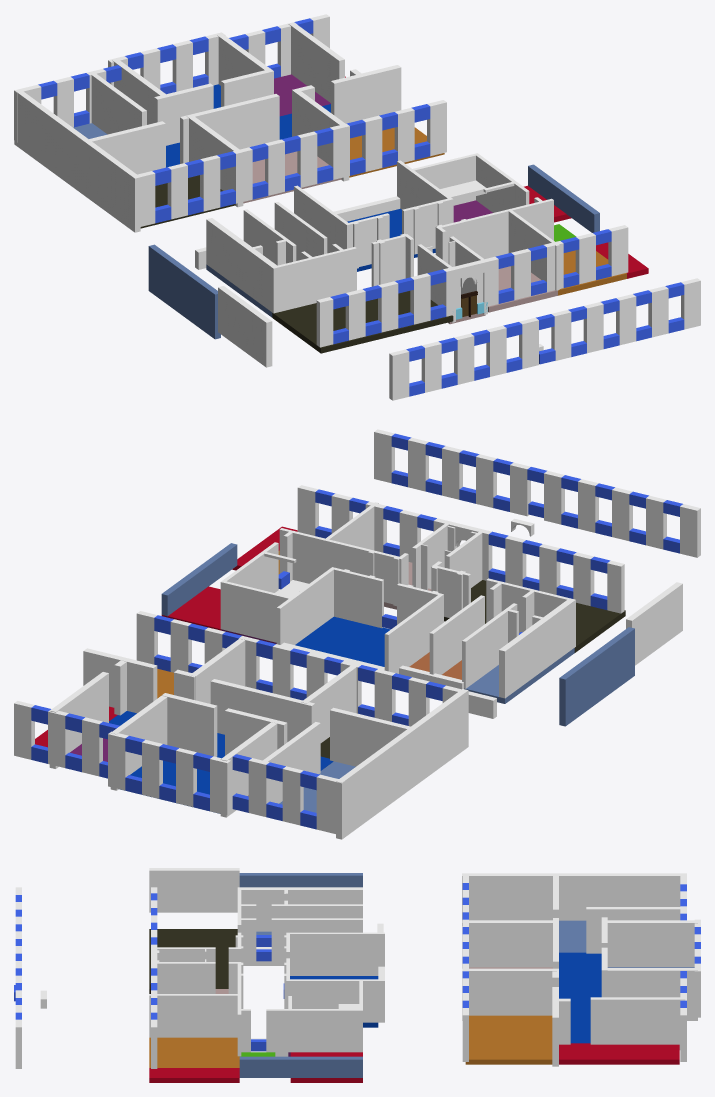
File: skolni101.glb
3 renders of one model, top to bottom at view 1: azimuth 30°, elevation 25°; view 2: azimuth 150°, elevation 25°; view 3: azimuth 270°, elevation 25°, orthographic. The views are drawn at different scales.
Parts seen in each view (by area): view 1: Krychle.024, PodPoadlahou.098, PodPoadlahou.001, Krychle.030, PodPoadlahou.012, Krychle.034, Šatna, PodPoadlahou.003, Krychle.029, Krychle.035, PodPoadlahou.141, Krychle.028 (+61 smaller); view 2: Krychle.024, PodPoadlahou.001, PodPoadlahou.012, Krychle.030, Krychle.029, PodPoadlahou.146, PodPoadlahou.134, T6, Krychle.009, PodPoadlahou.003, PodPoadlahou.133, Krychle.034 (+61 smaller); view 3: Krychle.024, Krychle.035, Krychle.012, T8.002, PodPoadlahou.133, Krychle.033, Krychle.032, PodPoadlahou.003, PodPoadlahou.129, PodPoadlahou.140, PodPoadlahou.134, Chodba.001 (+27 smaller).
Boxes of the visible parts, left/top/right/bottom form: Krychle.024: left=14, top=89, right=140, bottom=232; PodPoadlahou.098: left=271, top=247, right=356, bottom=313; PodPoadlahou.001: left=148, top=244, right=220, bottom=339; Krychle.030: left=180, top=94, right=279, bottom=163; PodPoadlahou.012: left=206, top=218, right=278, bottom=311; Krychle.034: left=331, top=65, right=401, bottom=123; Šatna: left=272, top=291, right=453, bottom=353; PodPoadlahou.003: left=218, top=286, right=272, bottom=367; Krychle.029: left=89, top=121, right=165, bottom=174; Krychle.035: left=288, top=22, right=344, bottom=102; PodPoadlahou.141: left=439, top=210, right=508, bottom=263; Krychle.028: left=91, top=73, right=146, bottom=134; Krychle.024: left=336, top=689, right=468, bottom=839; PodPoadlahou.001: left=559, top=627, right=634, bottom=726; PodPoadlahou.012: left=499, top=600, right=573, bottom=698; Krychle.030: left=210, top=679, right=315, bottom=741; Krychle.029: left=330, top=707, right=410, bottom=766; PodPoadlahou.146: left=221, top=581, right=290, bottom=642; PodPoadlahou.134: left=276, top=568, right=334, bottom=644; T6: left=295, top=616, right=390, bottom=666; Krychle.009: left=162, top=693, right=217, bottom=756; PodPoadlahou.003: left=626, top=582, right=682, bottom=665; PodPoadlahou.133: left=384, top=595, right=442, bottom=673; Krychle.034: left=83, top=648, right=157, bottom=713; Krychle.024: left=462, top=873, right=686, bottom=925; Krychle.035: left=590, top=997, right=685, bottom=1049; Krychle.012: left=607, top=920, right=697, bottom=967; T8.002: left=465, top=1015, right=552, bottom=1064; PodPoadlahou.133: left=290, top=932, right=384, bottom=975; Krychle.033: left=462, top=968, right=556, bottom=1020; Krychle.032: left=462, top=920, right=556, bottom=968; PodPoadlahou.003: left=149, top=868, right=239, bottom=912; PodPoadlahou.129: left=275, top=1009, right=362, bottom=1052; PodPoadlahou.140: left=149, top=994, right=239, bottom=1037; PodPoadlahou.134: left=288, top=979, right=384, bottom=1022; Chodba.001: left=559, top=952, right=601, bottom=1043.
Bounding box in the file's own units: 647 × 103 × 1073.
